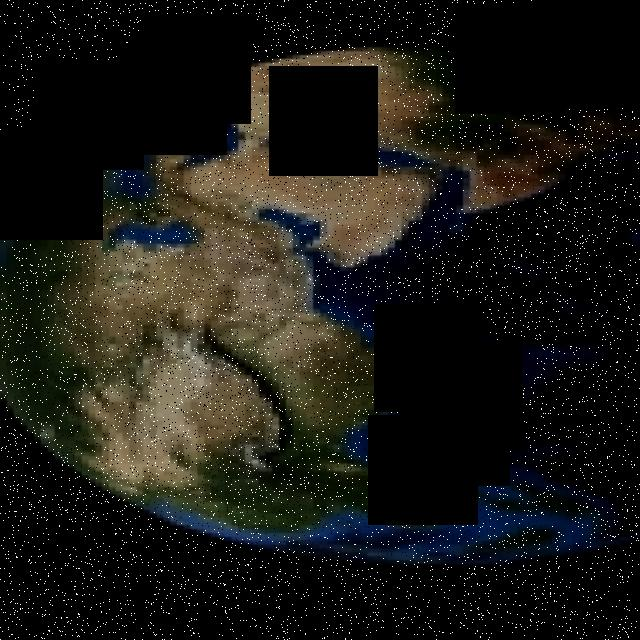Earth: (0, 34, 640, 570)
